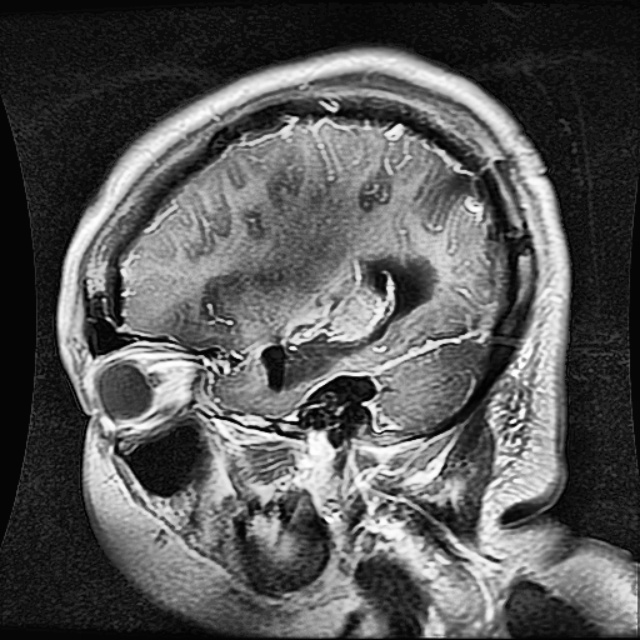Meningioma: (258, 255, 439, 389)
